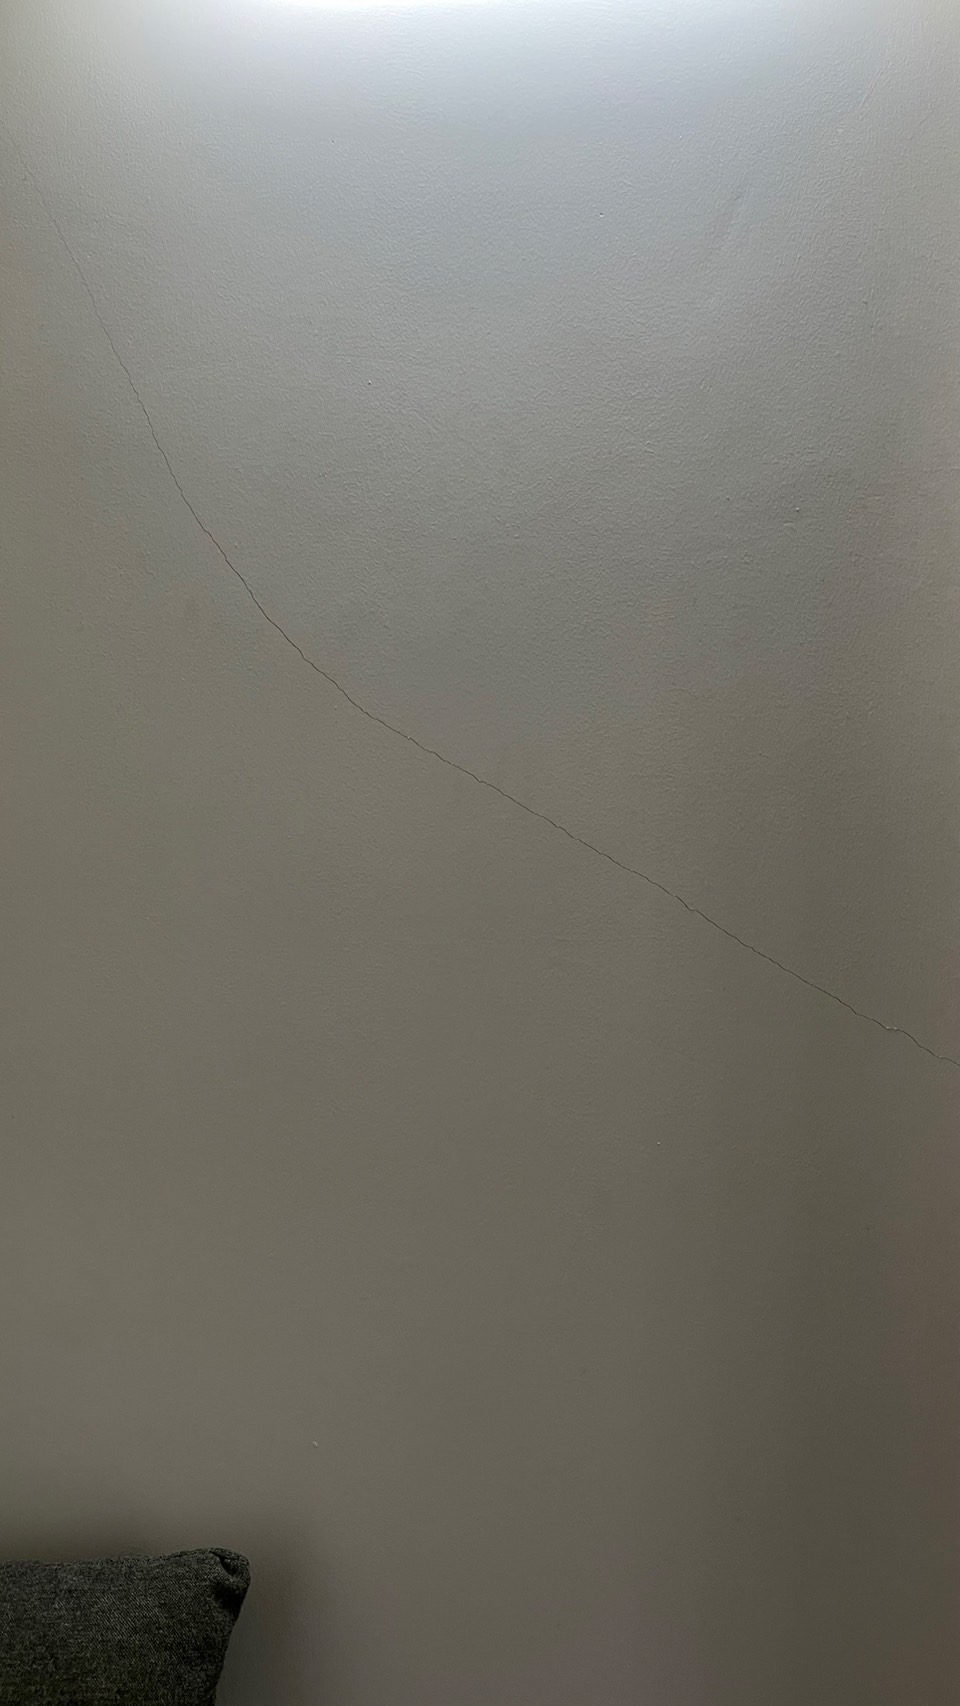Low: (7, 101, 960, 1128)
